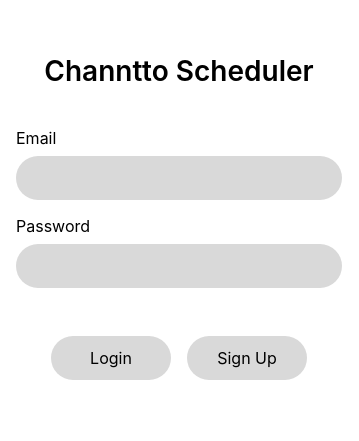
Scenario: AuthScreen › shows confirm password when Sign Up is pressed in login mode
The width and height of the screenshot is (359, 441).
Click the button "Sign Up" at (247, 358), box x1=187 y1=336 x2=307 y2=380
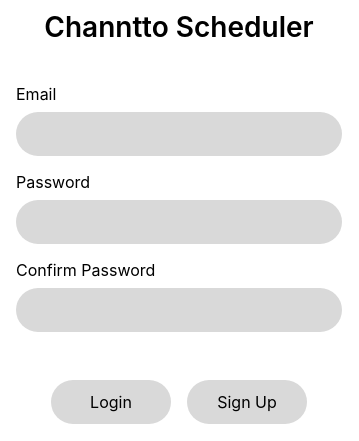
expect the text "Confirm Password" is shown: met, box x1=16 y1=260 x2=155 y2=280
